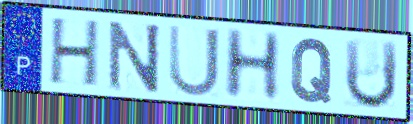H: (221, 27, 284, 101), (47, 16, 103, 90)
N: (107, 19, 163, 94)
Q: (288, 36, 336, 105)
U: (342, 37, 400, 112), (166, 22, 222, 99)
